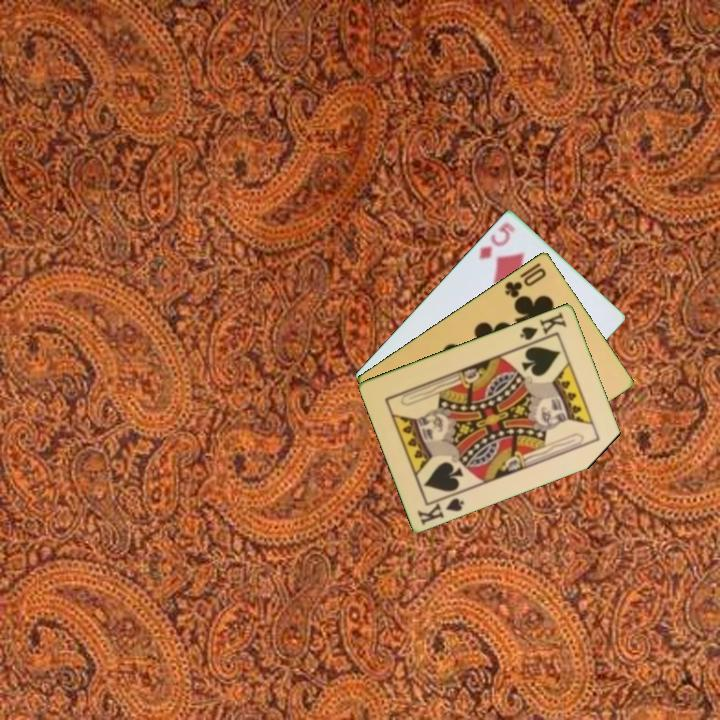10c: (501, 259, 549, 301)
5d: (475, 218, 518, 262)
Ks: (414, 488, 467, 528), (516, 308, 570, 347)
